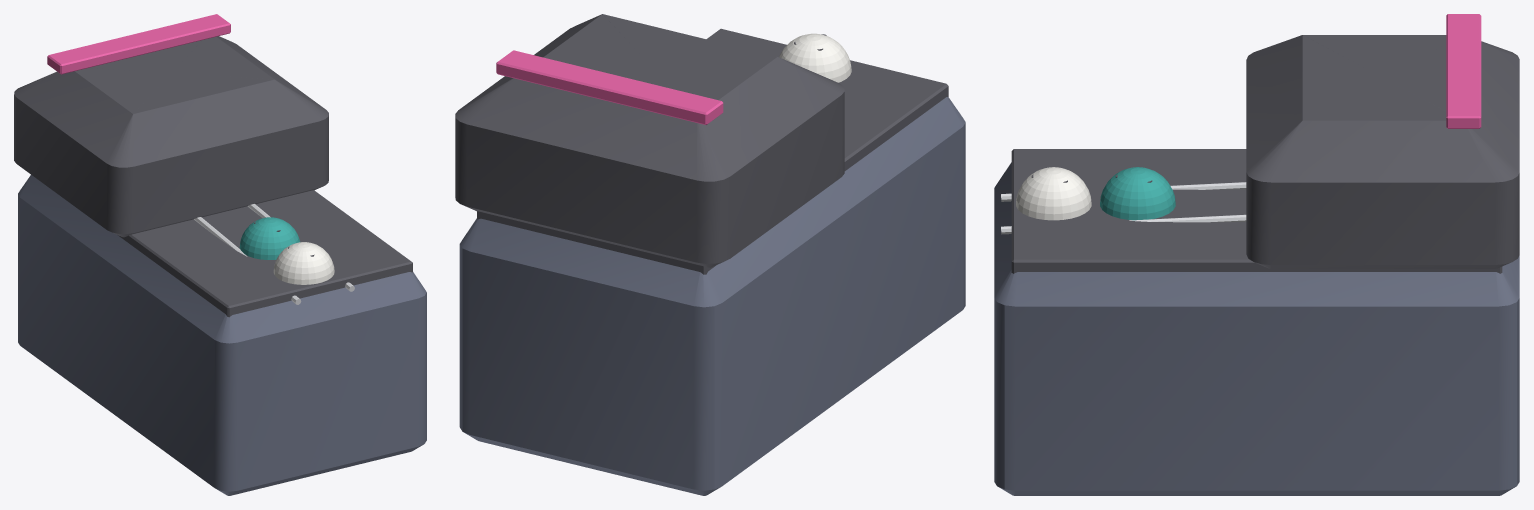
The model's file is bowling-alley-and-pool-hall-ball-return-unit-e3e0669f__33843.glb.
The picture shows the model from 3 angles, left to right: view 1: azimuth 30°, elevation 25°; view 2: azimuth 150°, elevation 25°; view 3: azimuth 270°, elevation 25°; orthographic projection. The views are drawn at different scales.
Visible parts, largest first — view 1: ball-return-unit, return-hood/dark, return-hood/accent; view 2: ball-return-unit, return-hood/dark, return-hood/accent; view 3: ball-return-unit, return-hood/dark, return-hood/accent.
Part boxes in pixels (bbox=[...]): ball-return-unit: bbox=[18, 175, 426, 495]; return-hood/dark: bbox=[14, 36, 328, 237]; return-hood/accent: bbox=[47, 14, 230, 74]; ball-return-unit: bbox=[459, 28, 965, 495]; return-hood/dark: bbox=[455, 14, 844, 267]; return-hood/accent: bbox=[496, 50, 723, 124]; ball-return-unit: bbox=[994, 149, 1519, 495]; return-hood/dark: bbox=[1246, 35, 1519, 268]; return-hood/accent: bbox=[1446, 14, 1481, 128].
Size of the model in its own units: 0.9 by 1.18 by 1.5.
